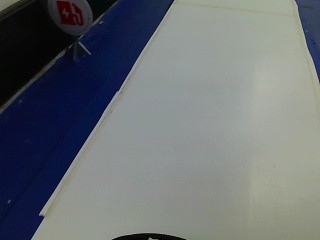battery: (47, 0, 92, 37)
